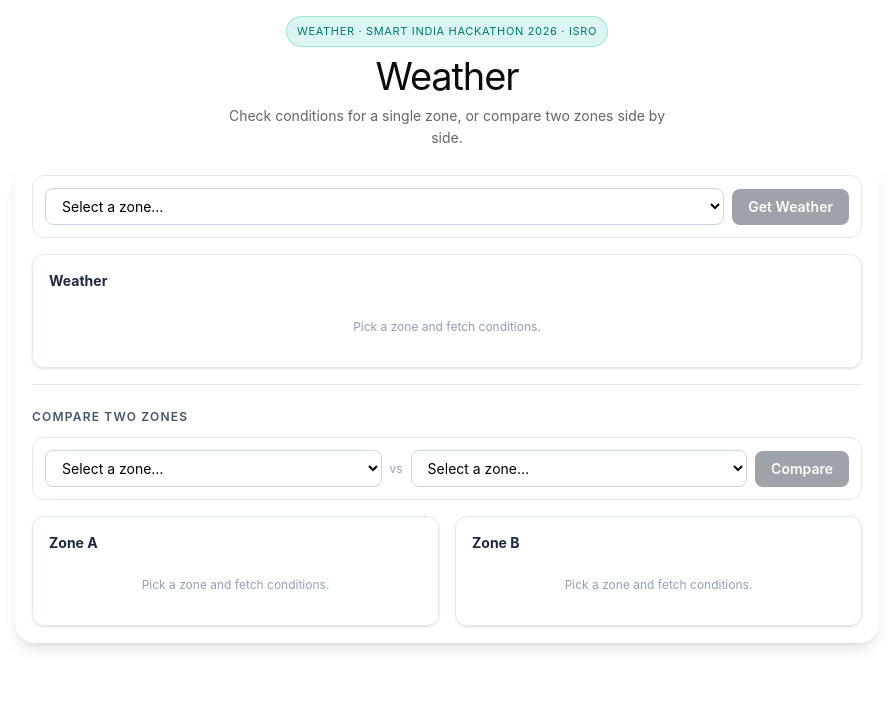
Test case: WeatherPage — fetching a single zone's conditions › shows a clear error banner when the weather fetch itself fails, without crashing the page
Step 1. Select "PFZ-001 — near Kochi" in the 1st dropdown → (385, 206), box [45,188,724,225]
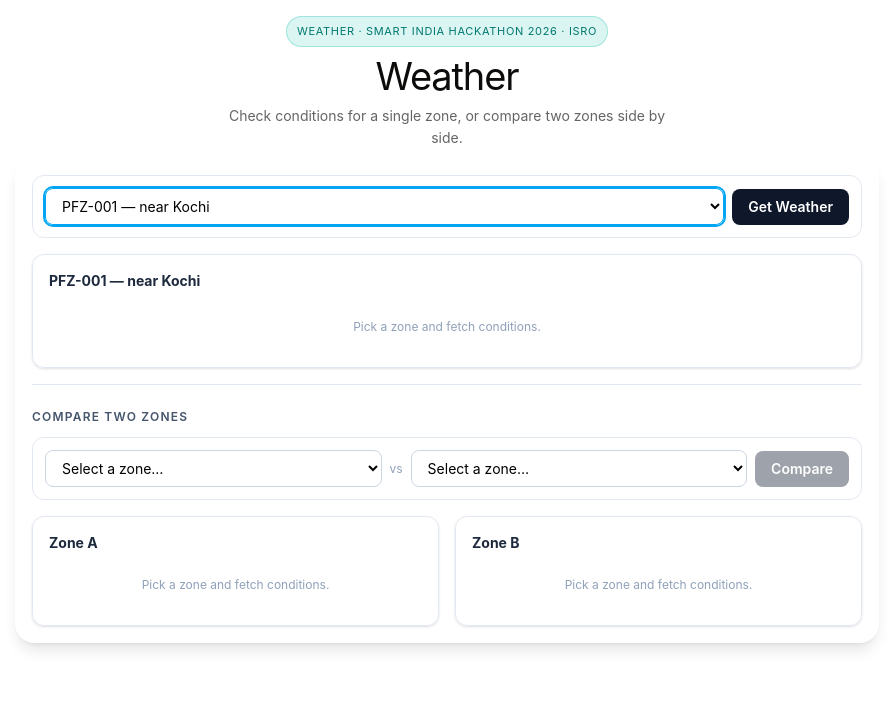
Step 2. Click the button "Get Weather" → (791, 206), box [732,188,849,224]
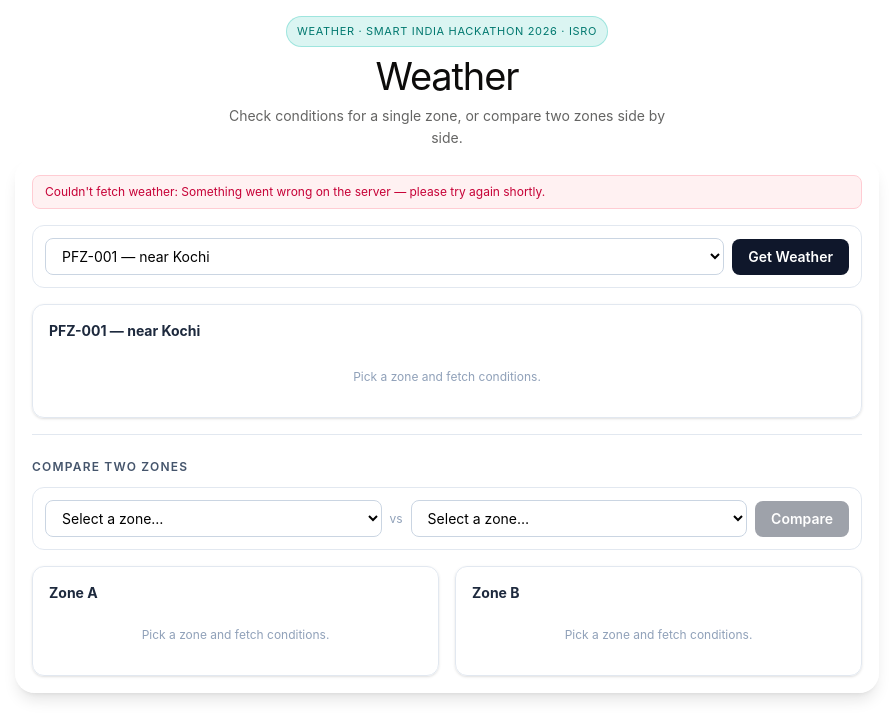
Expected: the text "Couldn't fetch weather" is shown, [45,184,181,199]
